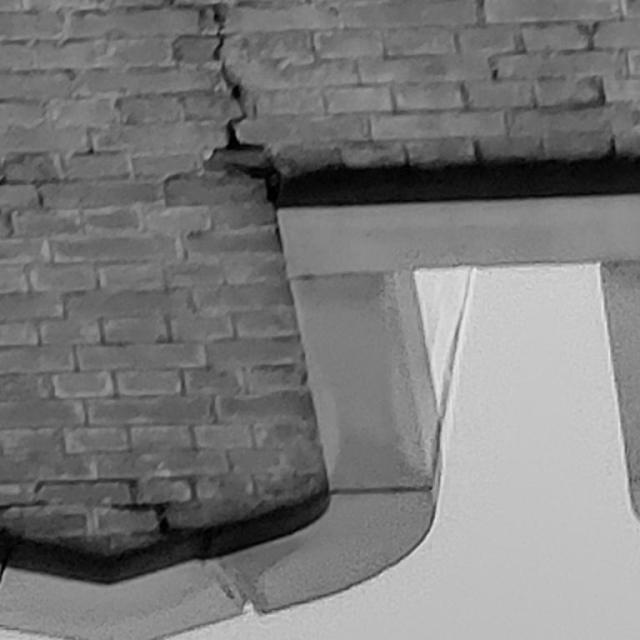crack: (212, 1, 276, 205), (109, 503, 209, 537)
